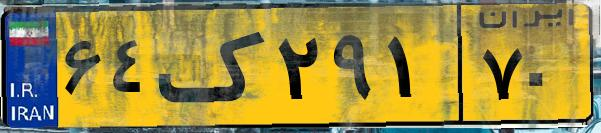0: (525, 38, 570, 115)
1: (385, 28, 445, 110)
2: (270, 28, 330, 110)
4: (110, 28, 158, 98)
6: (57, 26, 110, 100)
7: (475, 38, 525, 113)
9: (330, 28, 385, 110)
ک: (158, 12, 270, 120)
